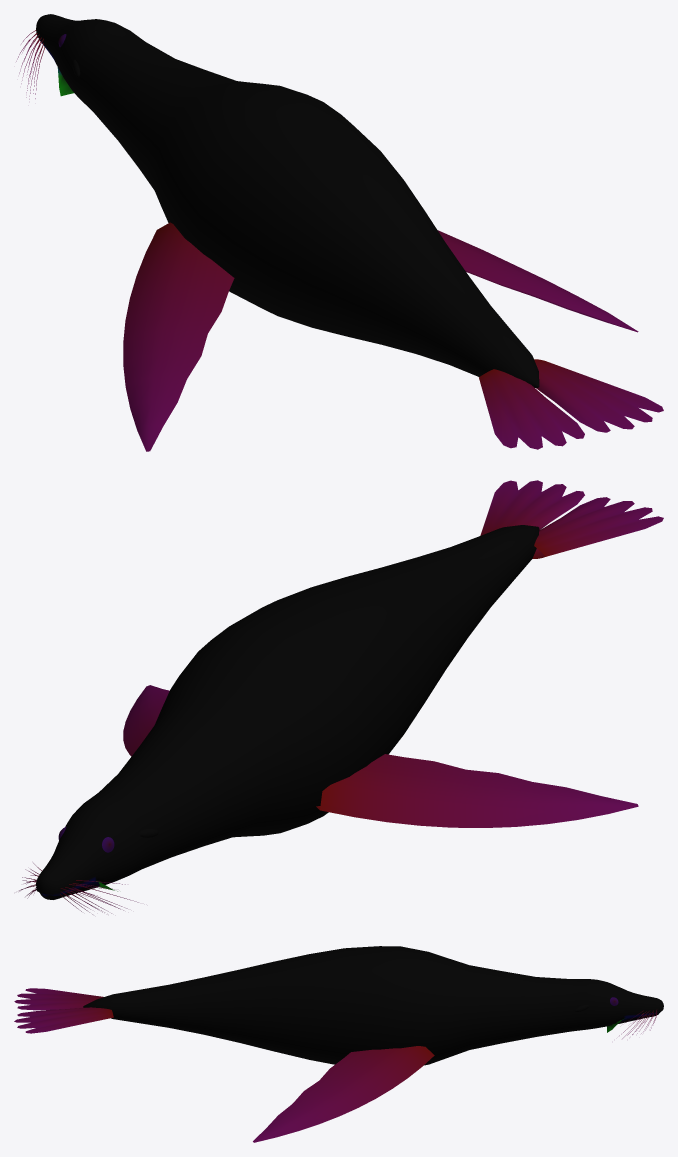
File: sea_lion_game.glb
The picture shows the model from 3 angles, top to bottom: view 1: azimuth 30°, elevation 25°; view 2: azimuth 150°, elevation 25°; view 3: azimuth 270°, elevation 25°; orthographic projection. The views are drawn at different scales.
Parts seen in each view (by area): view 1: sea_lion_game; view 2: sea_lion_game; view 3: sea_lion_game.
Part boxes in pixels (bbox=[...]): sea_lion_game: bbox=[16, 14, 663, 451]; sea_lion_game: bbox=[19, 480, 663, 914]; sea_lion_game: bbox=[14, 946, 663, 1142].
Size of the model in its own units: 1.13 by 0.4494 by 2.2.
